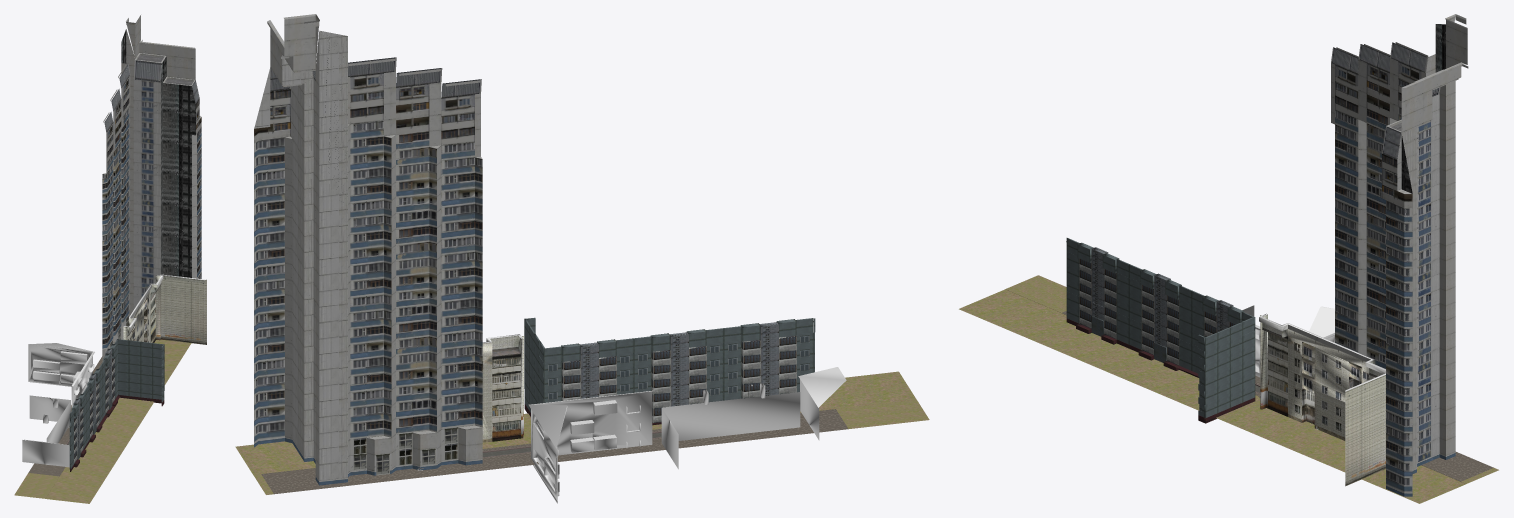
File: street.fbx
3 renders of one model, left to right at view 1: azimuth 30°, elevation 25°; view 2: azimuth 150°, elevation 25°; view 3: azimuth 270°, elevation 25°, orthographic. The views are drawn at different scales.
Visible parts, largest first — view 1: ENTER_house, Street, ENTER_house_WITH_DOOR; view 2: ENTER_house_WITH_DOOR, Street; view 3: Street, ENTER_house, ENTER_house_WITH_DOOR.
Part boxes in pixels (<box>): ENTER_house: <box>102,15,201,361</box>; Street: <box>14,274,206,503</box>; ENTER_house_WITH_DOOR: <box>103,40,201,310</box>; ENTER_house_WITH_DOOR: <box>254,14,482,485</box>; Street: <box>235,317,929,503</box>; Street: <box>959,238,1498,503</box>; ENTER_house: <box>1331,14,1468,496</box>; ENTER_house_WITH_DOOR: <box>1358,14,1465,490</box>.
Bounding box in the file's own units: 9171 × 8353 × 9171.
